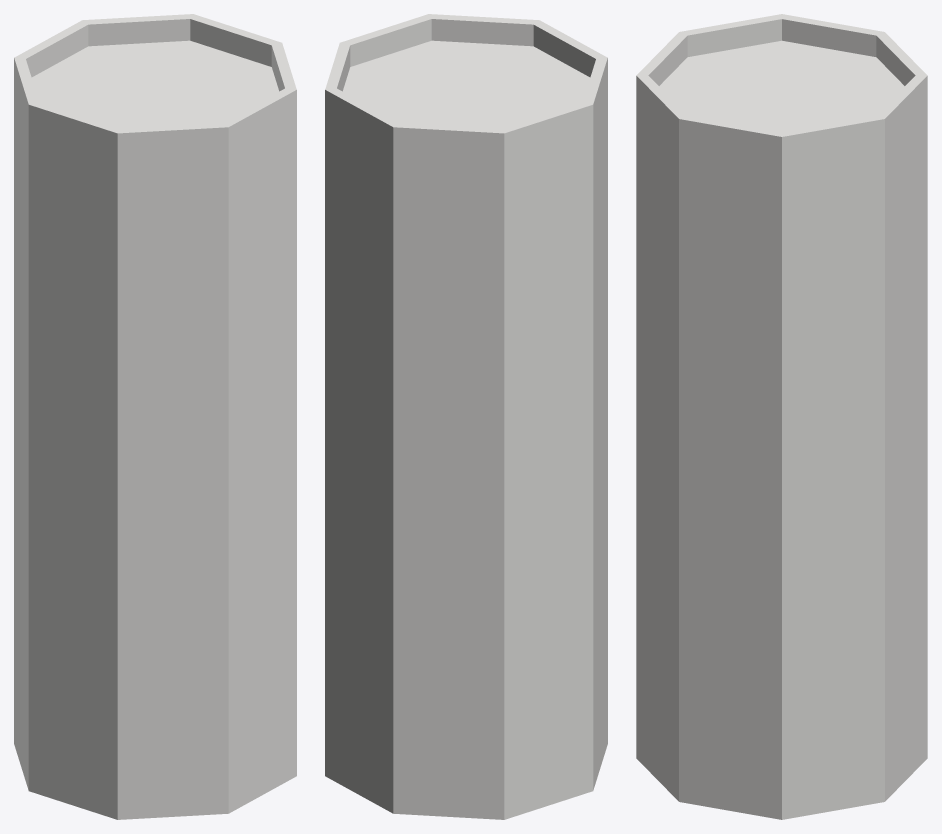
The model's file is SM_can_02.fbx.
3 views of the same model, side by side, from view 1: azimuth 30°, elevation 25°; view 2: azimuth 150°, elevation 25°; view 3: azimuth 270°, elevation 25° (orthographic).
Parts seen in each view (by area): view 1: Cylinder035; view 2: Cylinder035; view 3: Cylinder035.
Boxes of the visible parts, x1=… form: Cylinder035: x1=14, y1=14, x2=296, y2=819; Cylinder035: x1=325, y1=14, x2=607, y2=819; Cylinder035: x1=636, y1=14, x2=927, y2=819.
Size of the model in its own units: 3.24 by 3.24 by 8.39.
